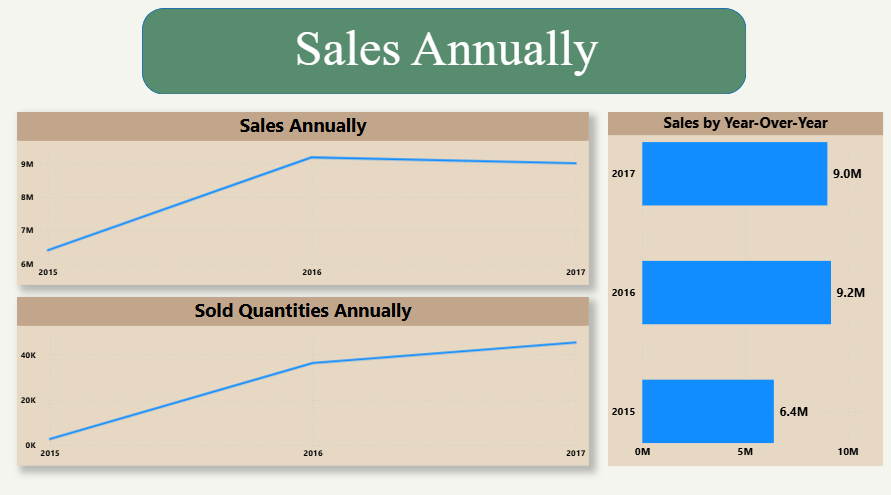

The page's visual inventory and layout, read from the dashboard file:
{"tool":"powerbi","page":{"name":"Sales(Year)","canvas":[1280,720],"ordinal":3},"visuals":[{"type":"shape","box":[207.4,12.5,863.5,123.4],"z":0,"group":"g1"},{"type":"lineChart","title":"Sales Annually","fields":{"Category":["SALES.Year"],"Y":["Sum(SALES.ProductPrice)"]},"box":[28.6,160.9,817,246.7],"z":0},{"type":"textbox","box":[282.7,24.4,718.6,100.4],"z":1000,"group":"g1"},{"type":"lineChart","title":"Sold Quantities Annually","fields":{"Category":["SALES.Year"],"Y":["Sum(SALES.OrderQuantity)"]},"box":[28.6,425.5,817,241.3],"z":1000},{"type":"barChart","title":"Sales by Year-Over-Year","fields":{"Category":["SALES.Year"],"Y":["Sum(SALES.ProductPrice)"]},"box":[872.4,160.9,393.3,505.9],"z":2000},{"type":"group","id":"g1","title":"Group 1","box":[207.4,12.5,863.5,123.4],"z":3000}]}

Visuals, with their boxes in screenshot pixels (x1, y1, x2, y2), scaled from the page's 1280x720 canvas onto the 891x495 screenshot:
shape: Rect(144, 9, 745, 93)
"Sales Annually" lineChart: Rect(20, 111, 589, 280)
textbox: Rect(197, 17, 697, 86)
"Sold Quantities Annually" lineChart: Rect(20, 293, 589, 458)
"Sales by Year-Over-Year" barChart: Rect(607, 111, 881, 458)
"Group 1" group: Rect(144, 9, 745, 93)
